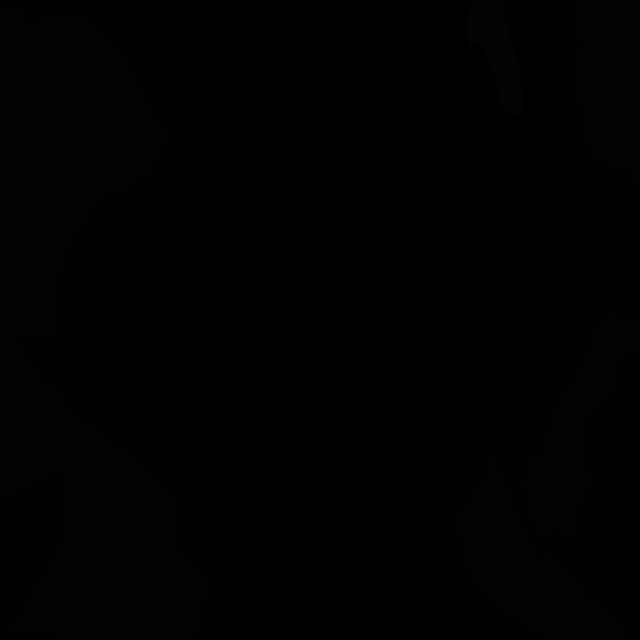cardboard: (0, 1, 171, 339), (0, 381, 212, 640), (450, 448, 626, 640), (542, 310, 640, 456), (569, 0, 640, 186), (521, 401, 591, 540), (0, 339, 60, 496)
soft_plastic: (466, 0, 524, 116)
